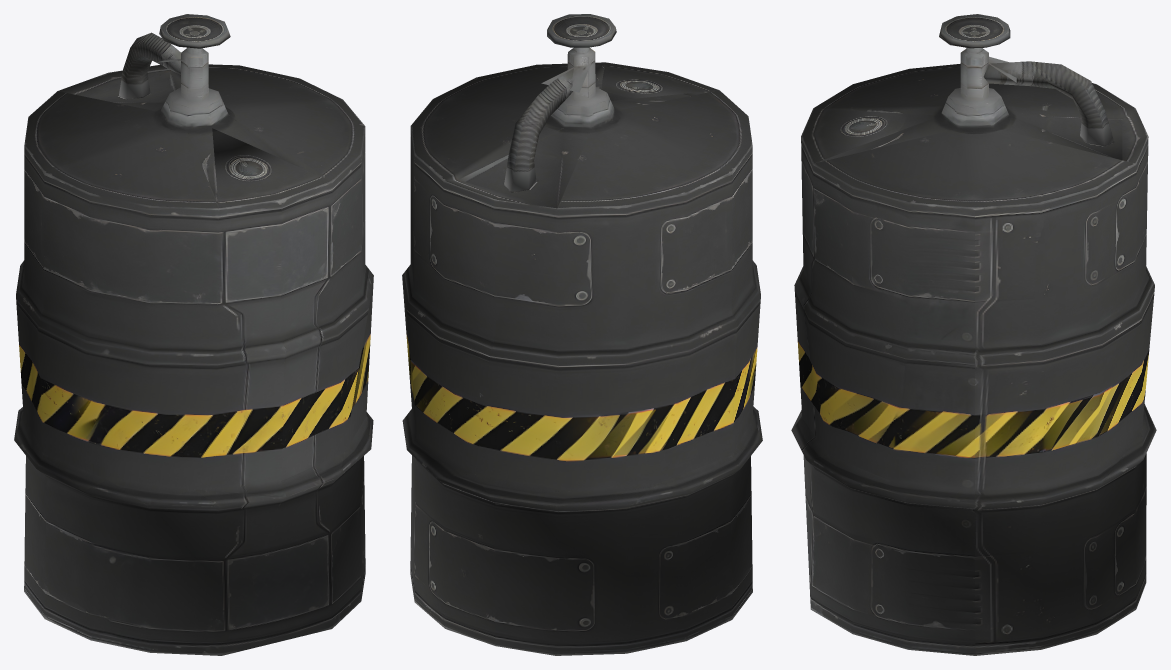
File: barrel.glb
3 views of the same model, side by side, from view 1: azimuth 30°, elevation 25°; view 2: azimuth 150°, elevation 25°; view 3: azimuth 270°, elevation 25° (orthographic).
Visible parts, largest first — view 1: barrel; view 2: barrel; view 3: barrel.
Part boxes in pixels (left/top/right/bottom): barrel: left=14, top=14, right=373, bottom=655; barrel: left=402, top=14, right=762, bottom=655; barrel: left=791, top=14, right=1156, bottom=655.
Size of the model in its own units: 0.8325 by 1.4 by 0.8361.
1 material, 1 textured.
